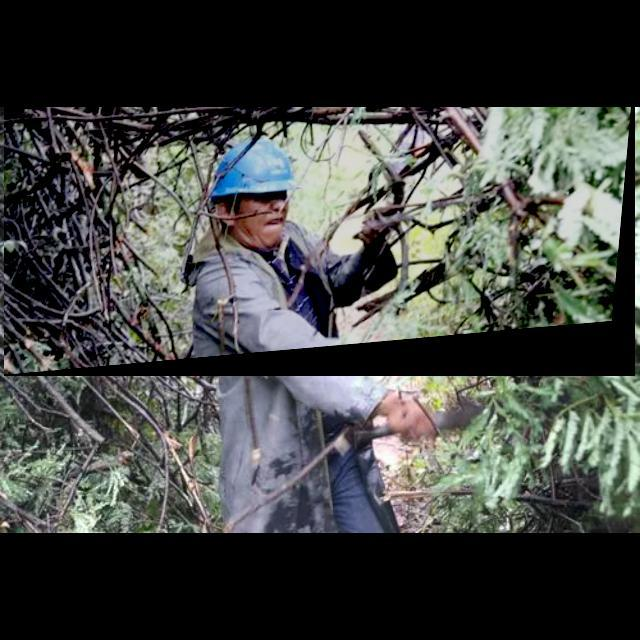fallen_tree: (4, 107, 636, 377)
